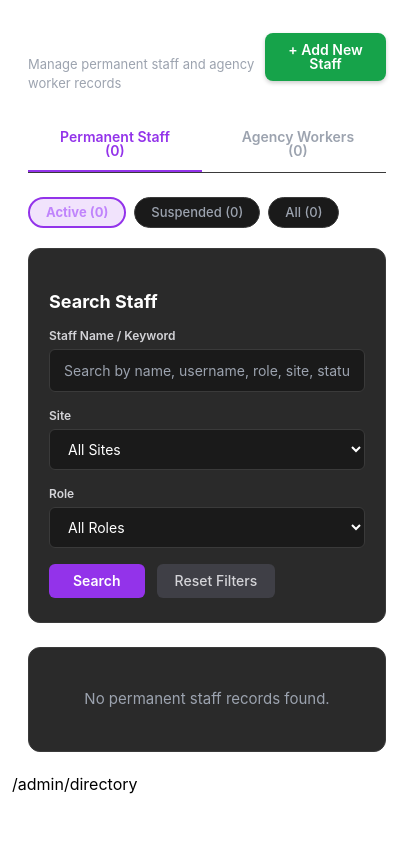
Test: Directory staff search › shows an authentication-expired message when the session is rejected and clears the token
Check: the heading "Search Staff" is shown, box [49,291,158,312]
Type "alice" into the field with placeholder "Search by name, username, role, site, status or email...".
click(207, 371); type("alice")  # box [49,349,365,392]
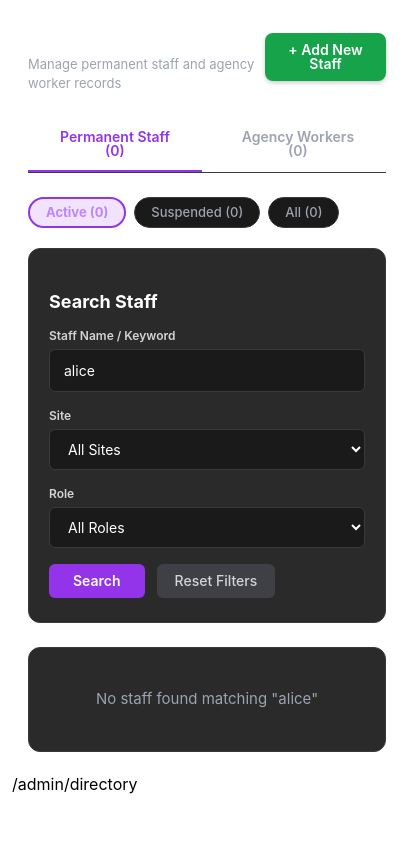
Click the button "Search".
click(97, 581)  # box [49,564,144,598]
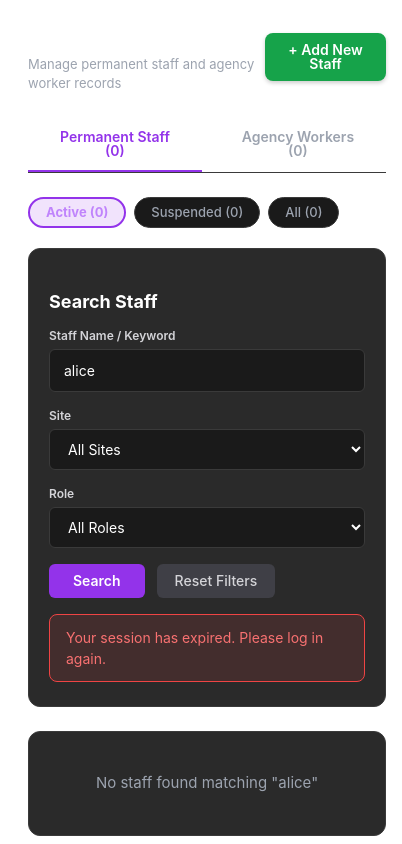
Check: the text "Your session has expired. Please log in again." is shown, box [49,614,365,682]
